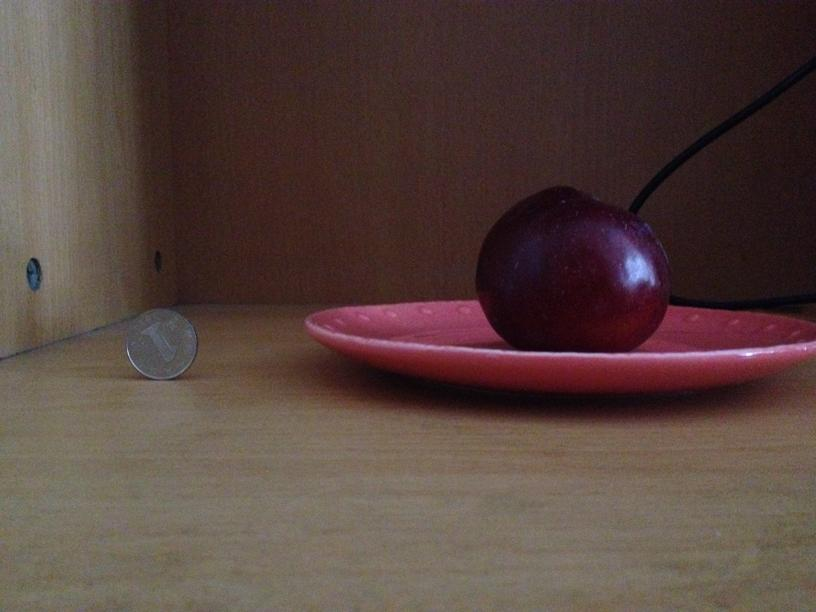coin: (123, 310, 199, 382)
plum: (478, 186, 669, 352)
